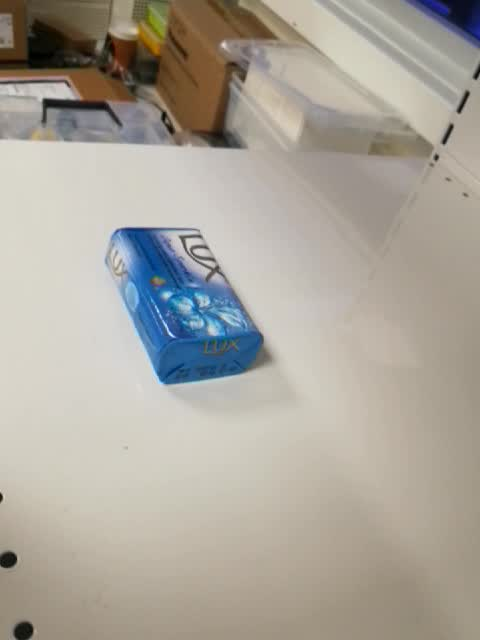soap: (104, 227, 264, 385)
